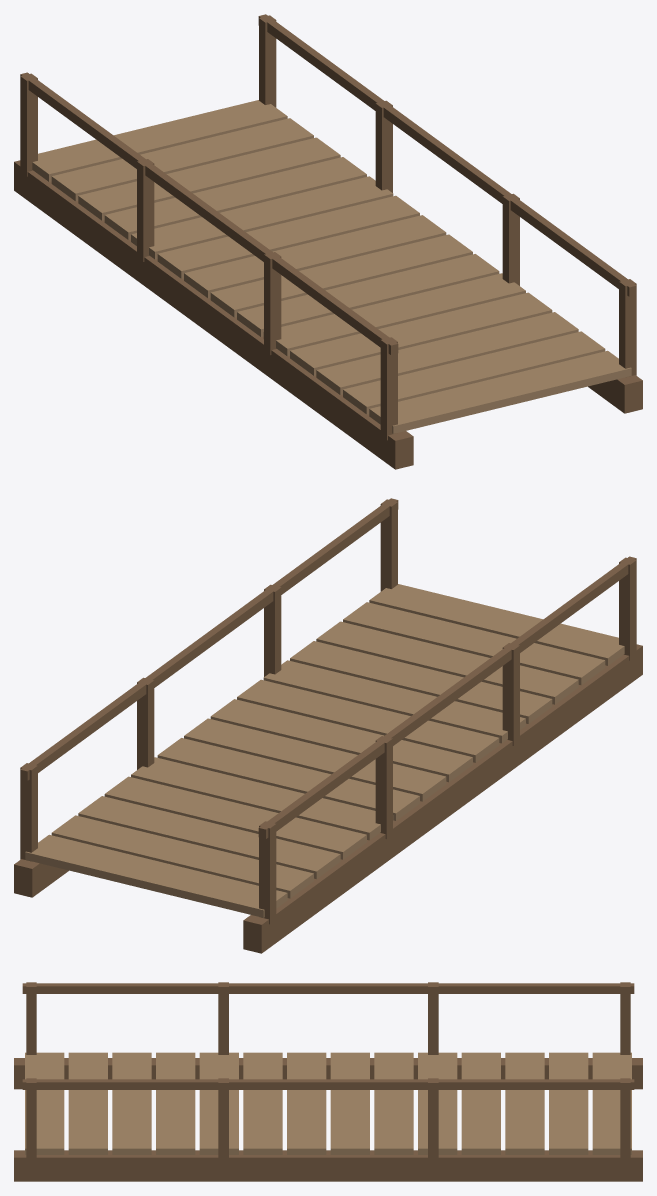
File: Bridge.fbx
The picture shows the model from 3 angles, top to bottom: view 1: azimuth 30°, elevation 25°; view 2: azimuth 150°, elevation 25°; view 3: azimuth 270°, elevation 25°; orthographic projection. The views are drawn at different scales.
Parts seen in each view (by area): view 1: Bridge; view 2: Bridge; view 3: Bridge.
Boxes of the visible parts, x1=… form: Bridge: x1=14, y1=14, x2=642, y2=469; Bridge: x1=14, y1=498, x2=642, y2=953; Bridge: x1=14, y1=982, x2=642, y2=1181.
Bounding box in the file's own units: 2.72 × 7.2 × 1.25.
